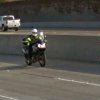Motorcycle: (17, 31, 59, 65)
